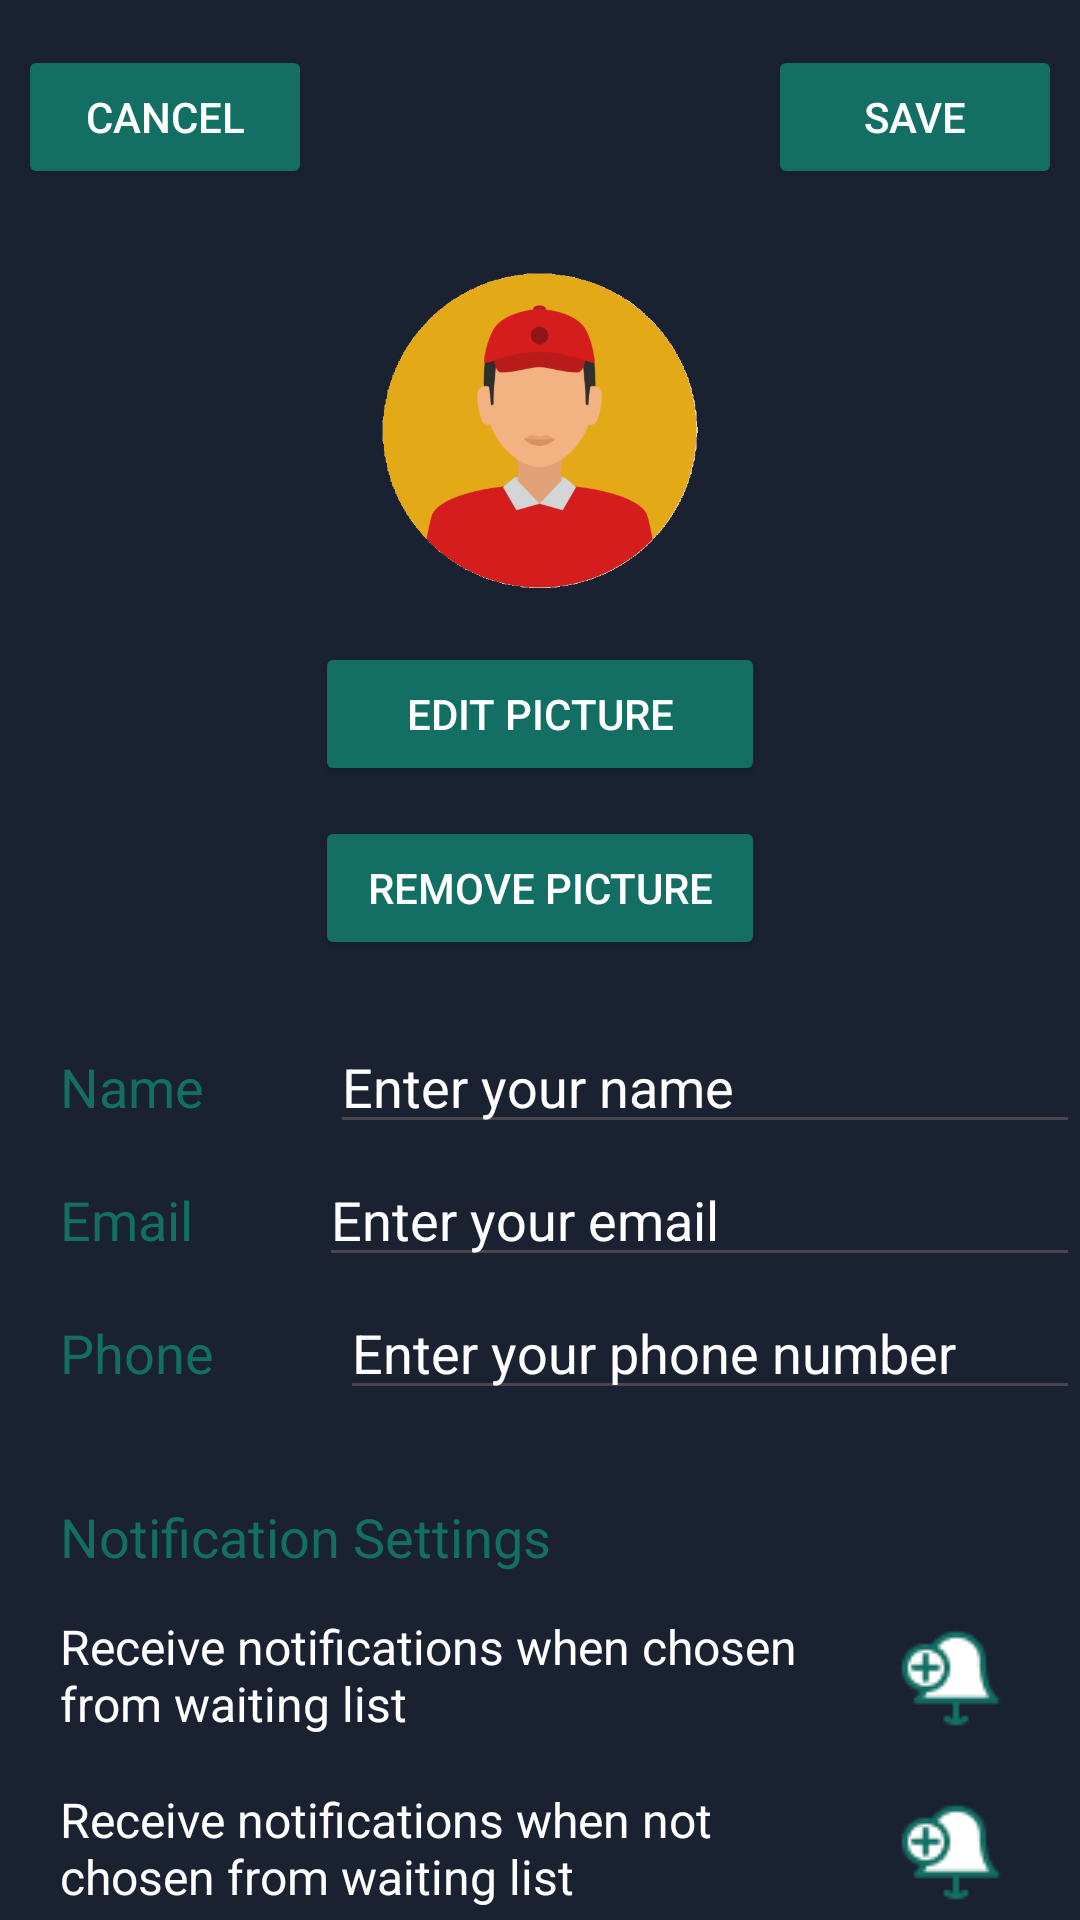

Where to tap for icons on this 1080 x 1920 app screen, as (x,y):
Profile Picture: (540,430)
